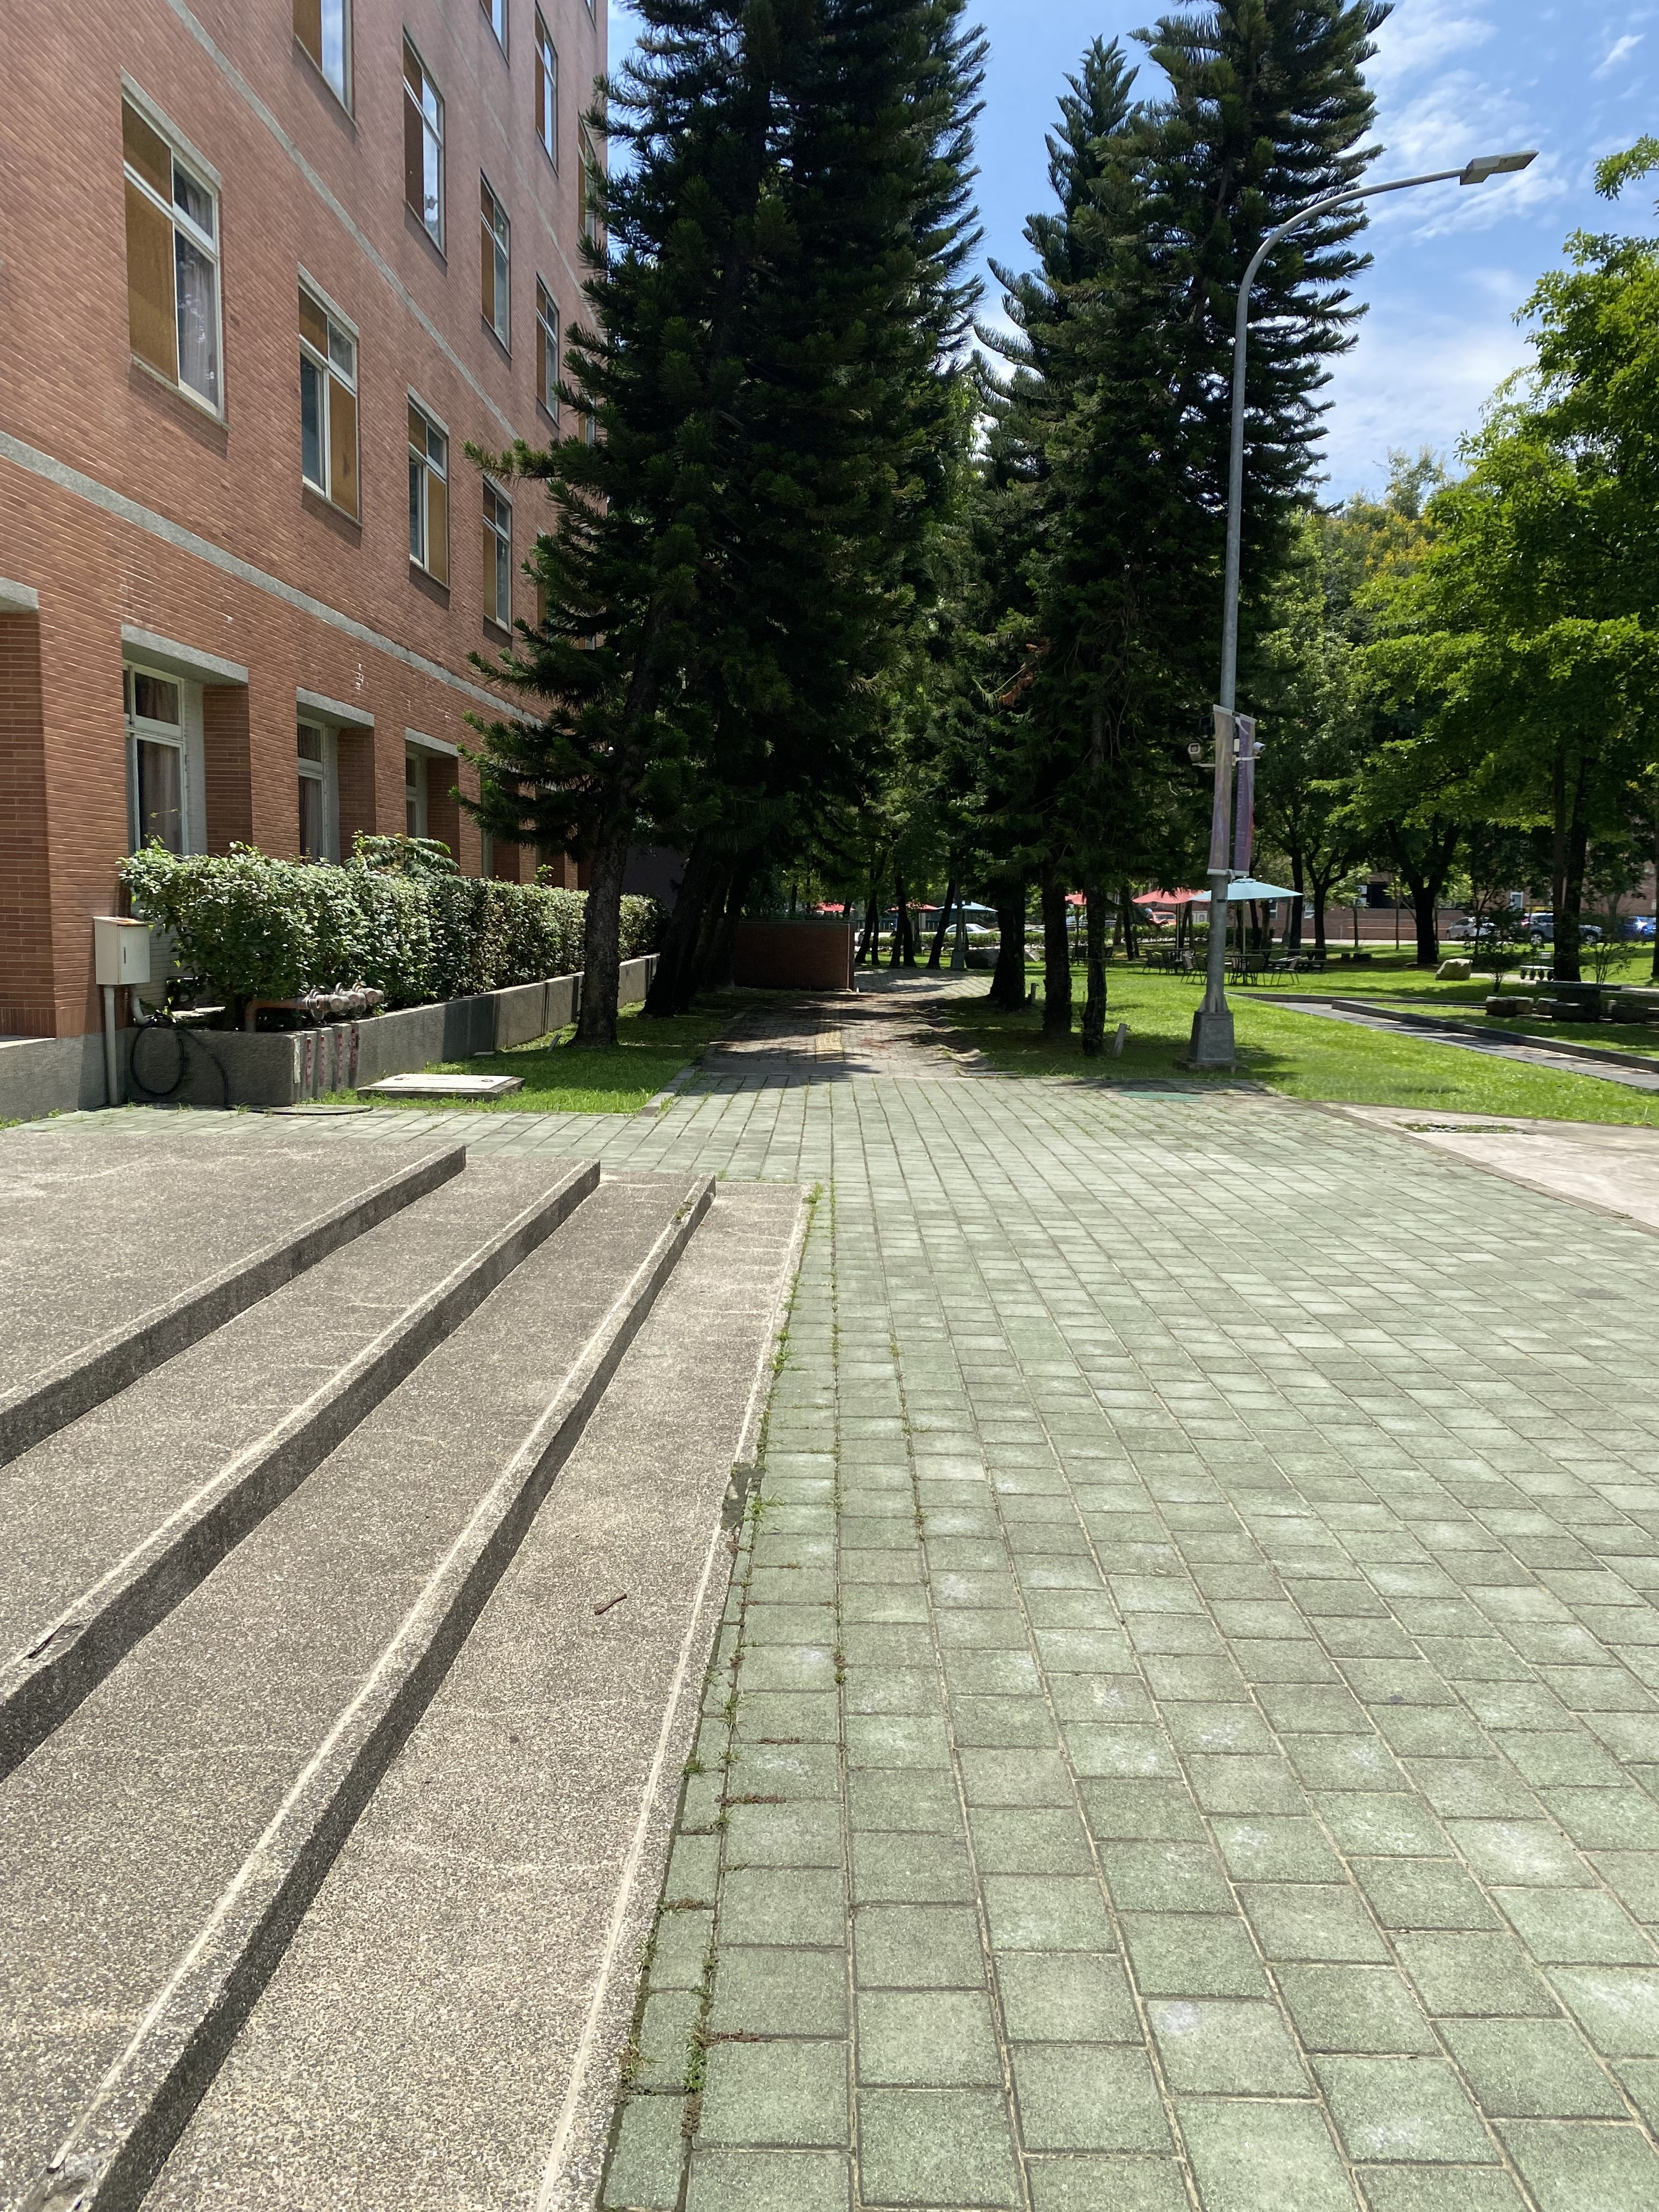sidewalk: (521, 895, 1659, 2212)
